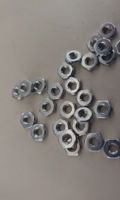nut: (93, 100, 113, 119), (98, 22, 118, 40), (85, 134, 104, 152), (82, 52, 100, 71), (75, 89, 93, 107), (39, 99, 57, 117), (31, 123, 48, 142), (104, 139, 120, 159), (75, 107, 93, 124), (59, 101, 76, 119), (53, 119, 70, 137), (48, 82, 65, 100), (64, 77, 81, 95), (95, 37, 113, 54), (59, 130, 75, 149), (72, 119, 89, 136), (65, 139, 82, 156), (58, 62, 75, 79), (85, 35, 102, 52), (21, 112, 37, 129), (32, 77, 47, 95), (18, 79, 33, 97), (100, 50, 116, 66), (65, 50, 81, 65), (12, 84, 22, 101), (115, 39, 120, 57)
